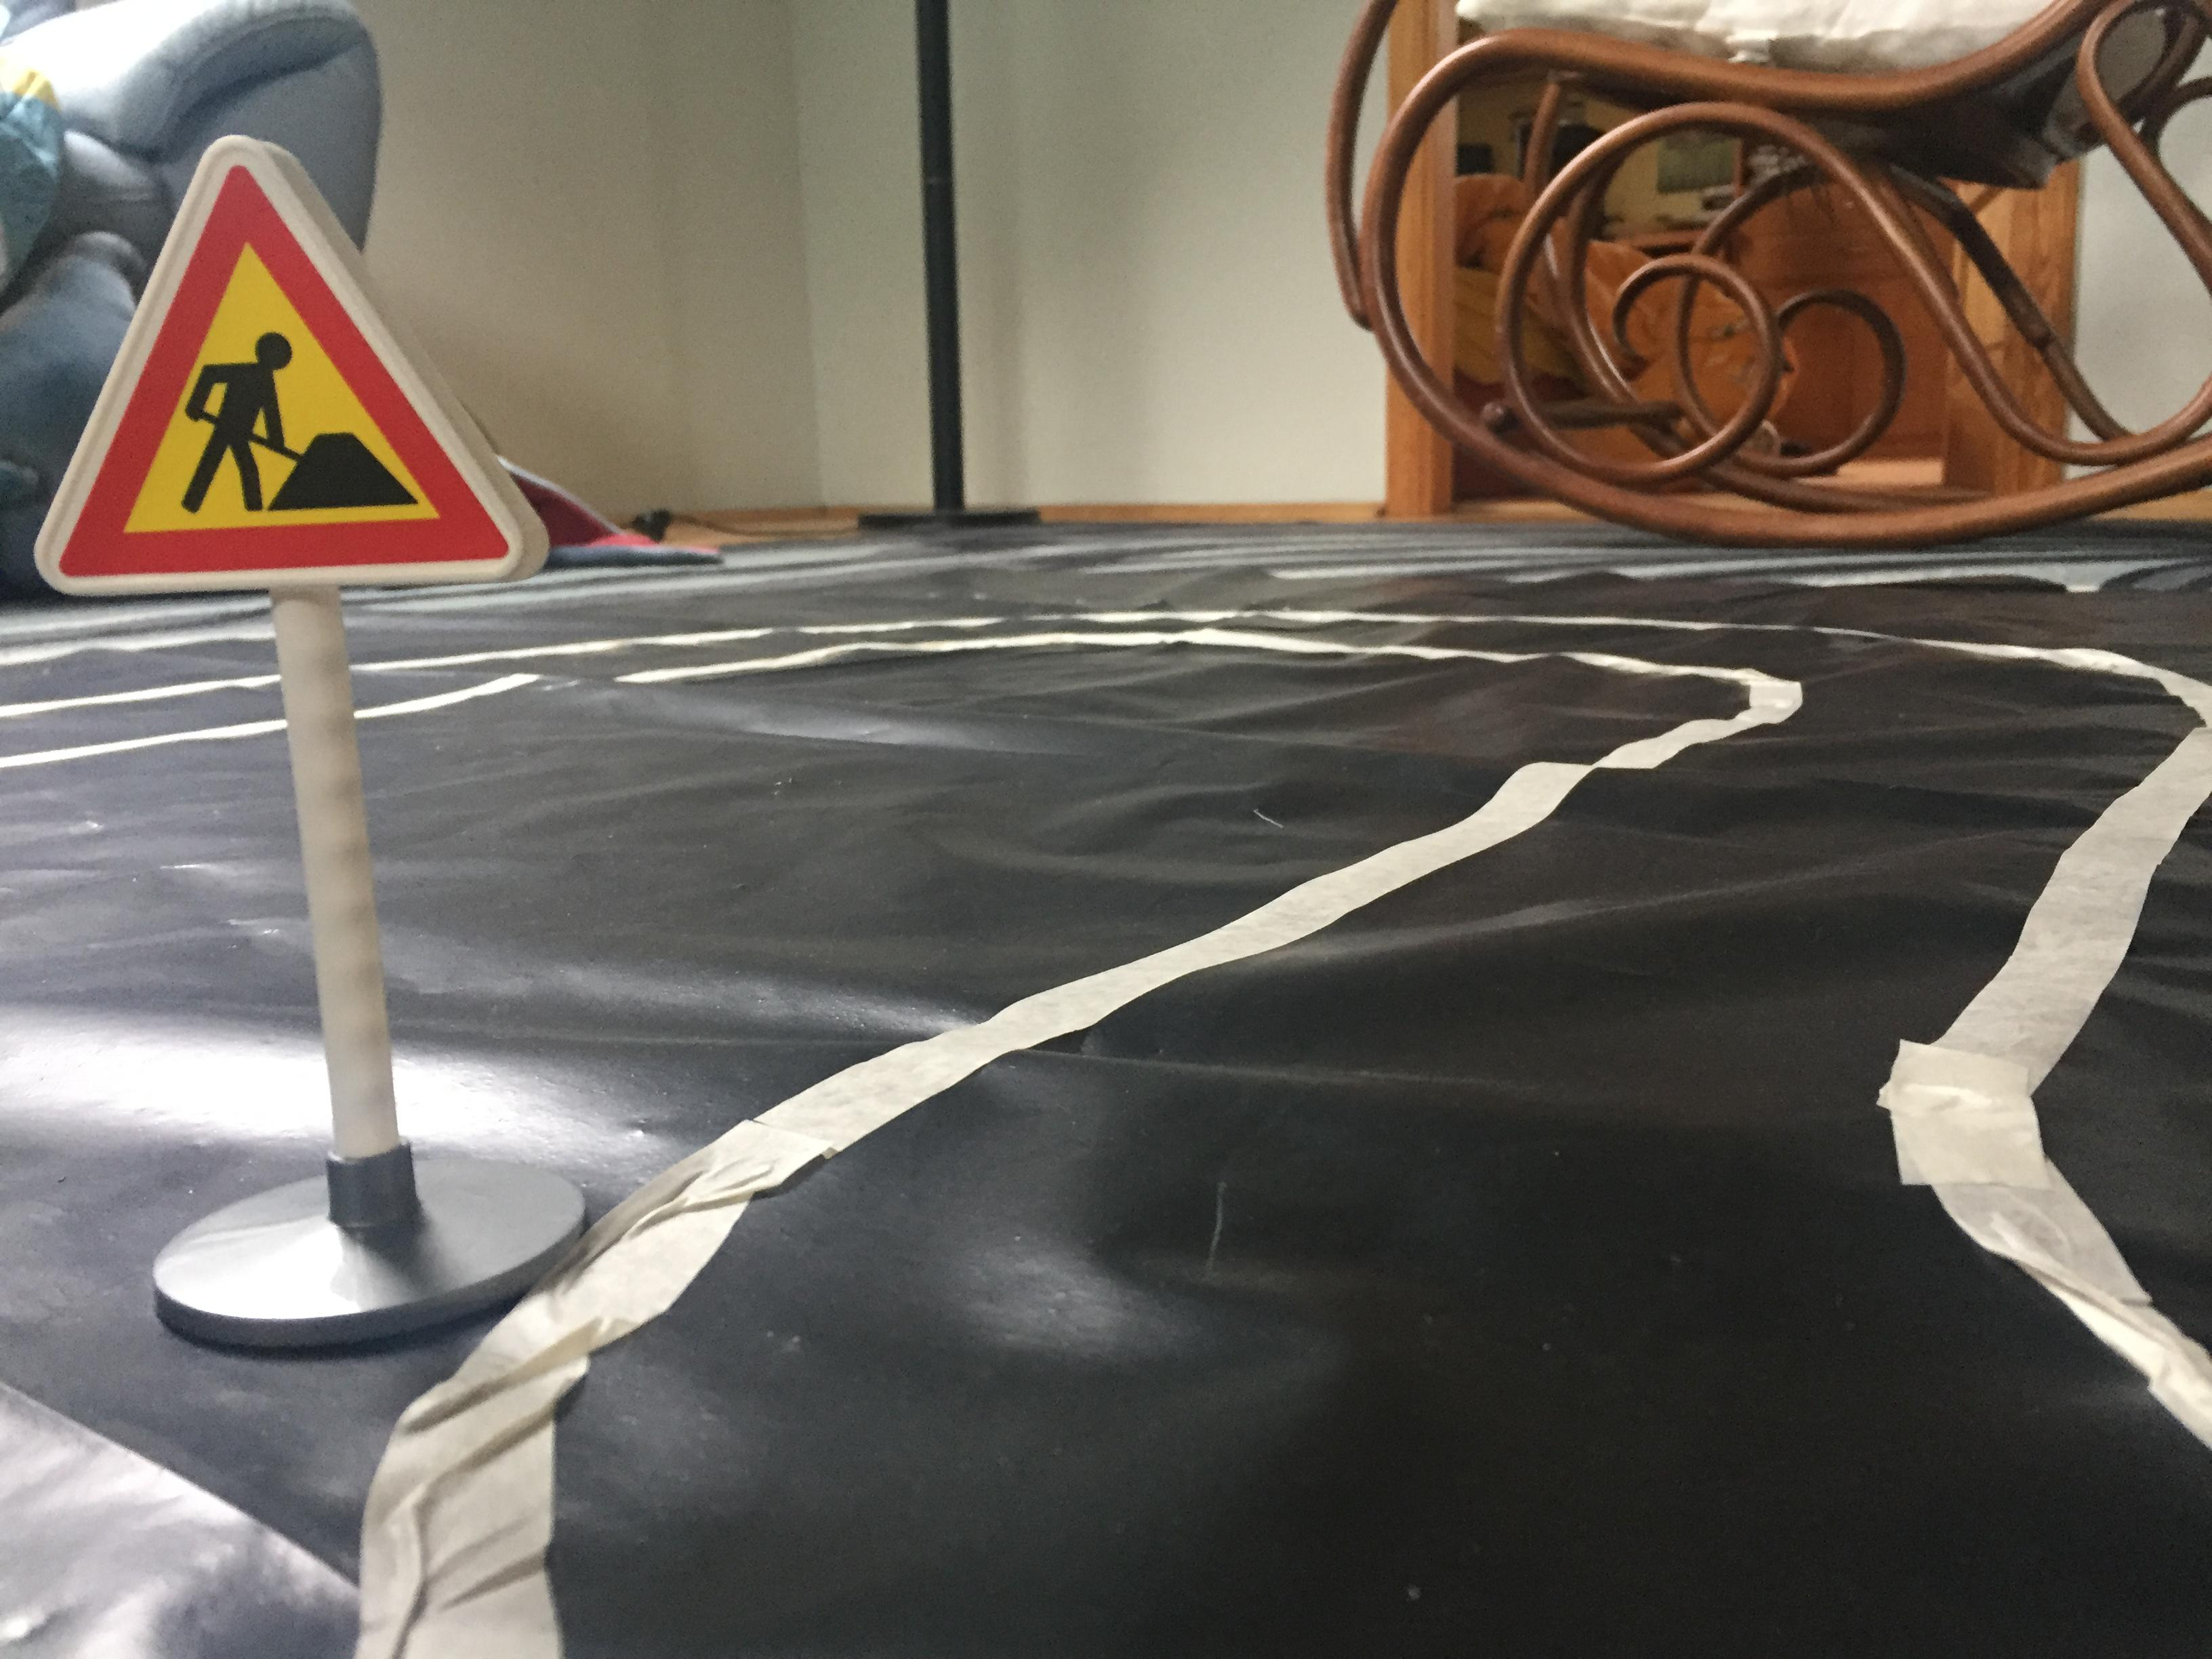work: (28, 113, 561, 619)
